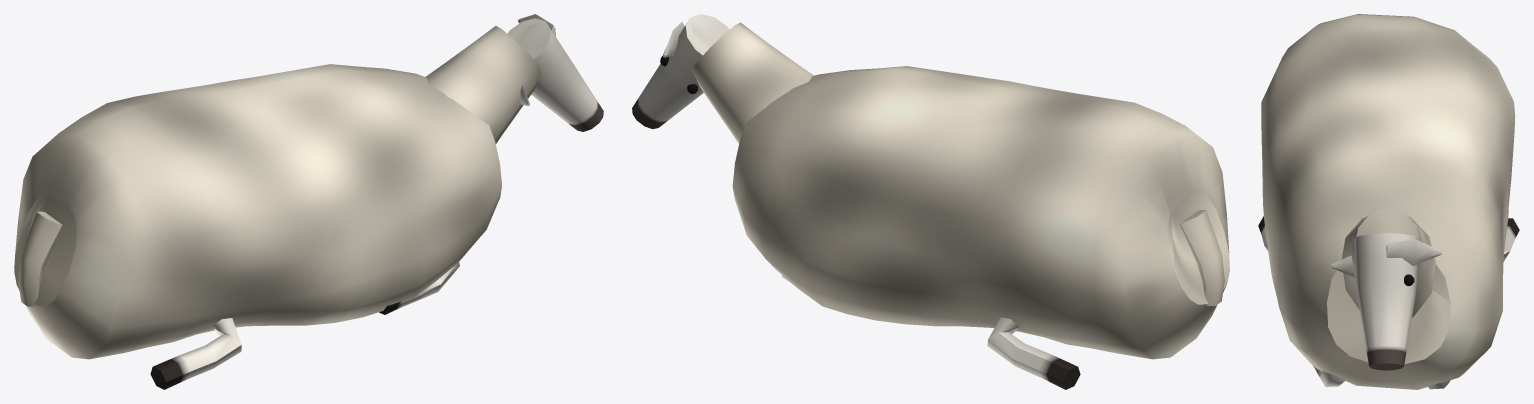
The model's file is tpl_life_sheep_2021_sheep_texel_lie.glb.
3 views of the same model, side by side, from view 1: azimuth 30°, elevation 25°; view 2: azimuth 150°, elevation 25°; view 3: azimuth 270°, elevation 25° (orthographic). The views are drawn at different scales.
Parts seen in each view (by area): view 1: tpl_life_sheep_2021_sheep_texel_lie; view 2: tpl_life_sheep_2021_sheep_texel_lie; view 3: tpl_life_sheep_2021_sheep_texel_lie.
Part boxes in pixels (left/top/right/bottom): tpl_life_sheep_2021_sheep_texel_lie: left=14, top=14, right=603, bottom=389; tpl_life_sheep_2021_sheep_texel_lie: left=632, top=14, right=1229, bottom=389; tpl_life_sheep_2021_sheep_texel_lie: left=1258, top=14, right=1519, bottom=389.
Bounding box in the file's own units: 1.38 × 0.5225 × 0.5232.
2 materials, 1 textured.
